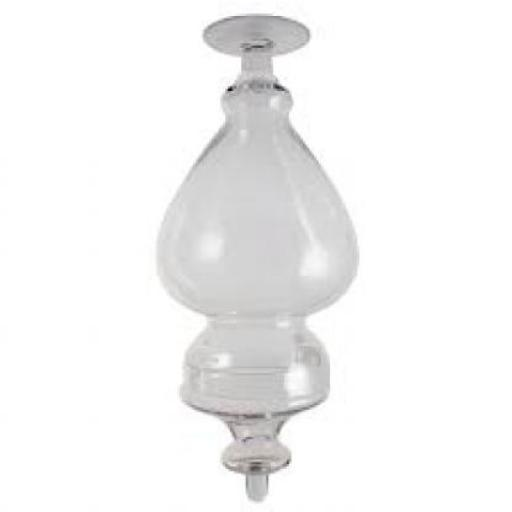glass: (155, 18, 357, 503)
